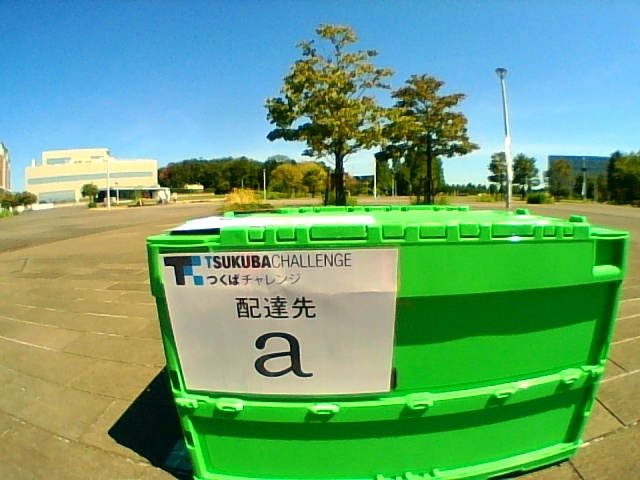green_box: (146, 205, 629, 480)
tag_a: (190, 255, 389, 390)
